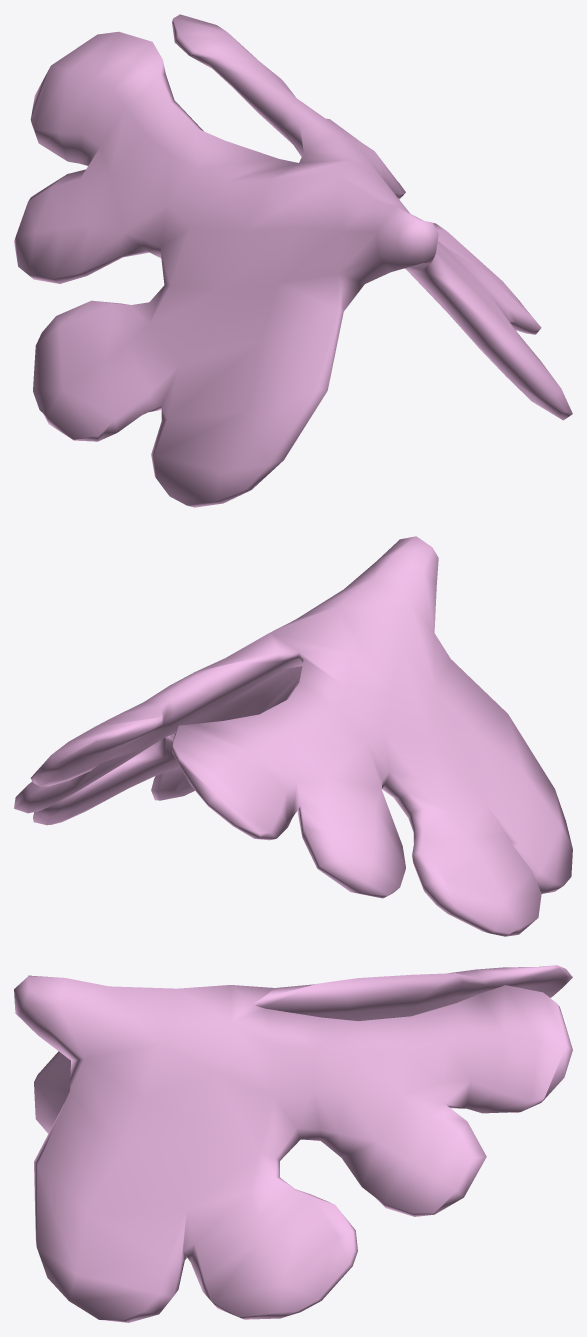
File: Shrimp_Fan_ANylon.fbx
The picture shows the model from 3 angles, top to bottom: view 1: azimuth 30°, elevation 25°; view 2: azimuth 150°, elevation 25°; view 3: azimuth 270°, elevation 25°; orthographic projection. The views are drawn at different scales.
Visible parts, largest first — view 1: Fan_low; view 2: Fan_low; view 3: Fan_low.
Boxes of the visible parts, x1,y1,x2,y2 form: Fan_low: (14,14,572,507); Fan_low: (14,536,572,936); Fan_low: (14,965,572,1322).
Bounding box in the file's own units: 41.25 × 22.51 × 44.29.
